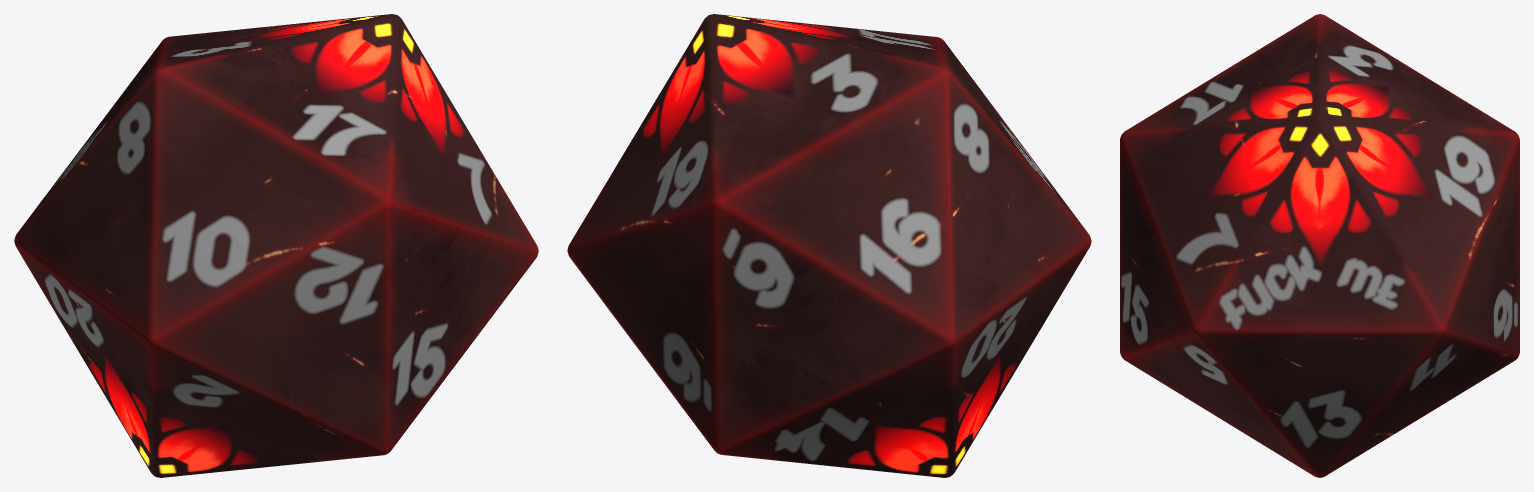
The model's file is kat_d20.glb.
The picture shows the model from 3 angles, left to right: view 1: azimuth 30°, elevation 25°; view 2: azimuth 150°, elevation 25°; view 3: azimuth 270°, elevation 25°; orthographic projection. The views are drawn at different scales.
Parts seen in each view (by area): view 1: d20Kat; view 2: d20Kat; view 3: d20Kat.
Boxes of the visible parts, box(x1,y1,x2,y2) form: d20Kat: box(14, 14, 538, 477); d20Kat: box(567, 14, 1091, 477); d20Kat: box(1120, 14, 1519, 477).
Size of the model in its own units: 156 by 157 by 156.
Materials: 1 (1 with a texture image).
